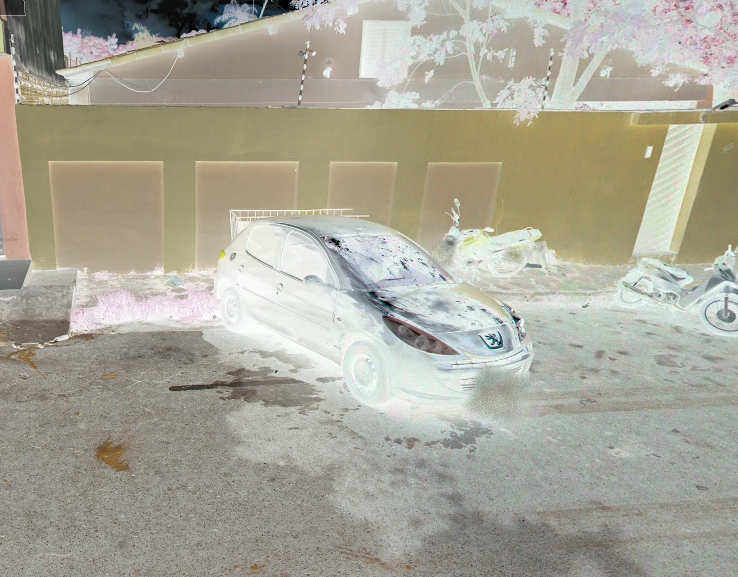car: (210, 210, 536, 424)
